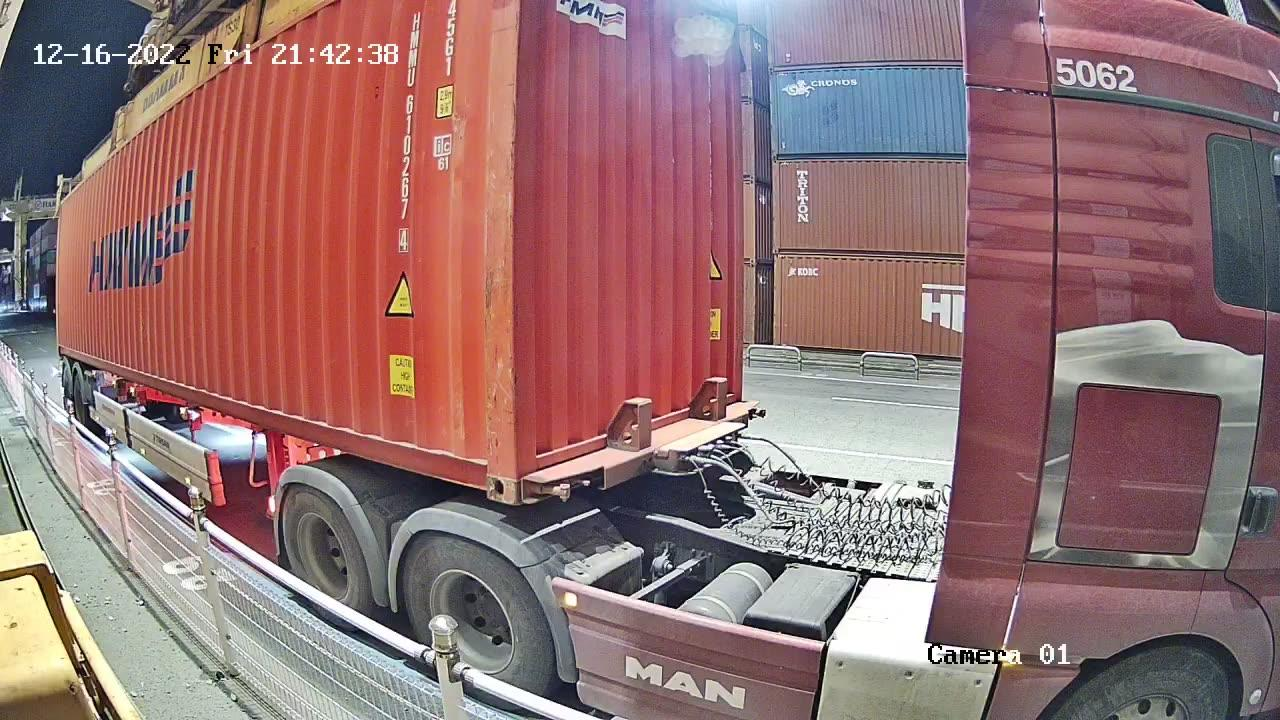Chassis: (519, 401, 763, 503)
Hole_R: (455, 430, 518, 502)
Tire: (402, 536, 555, 693), (283, 488, 370, 610)
